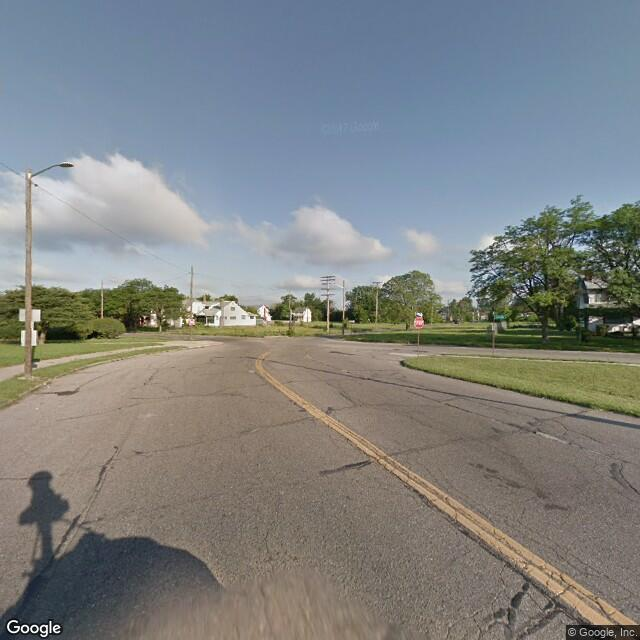litter: (42, 383, 50, 387)
